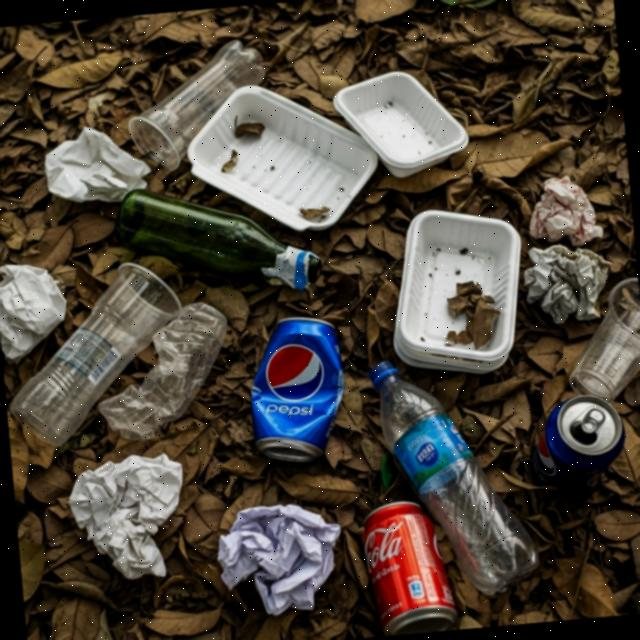aluminum: (235, 308, 354, 472), (354, 495, 464, 637), (534, 390, 628, 494)
plastic: (366, 344, 546, 608), (380, 199, 534, 383), (564, 270, 640, 397)
